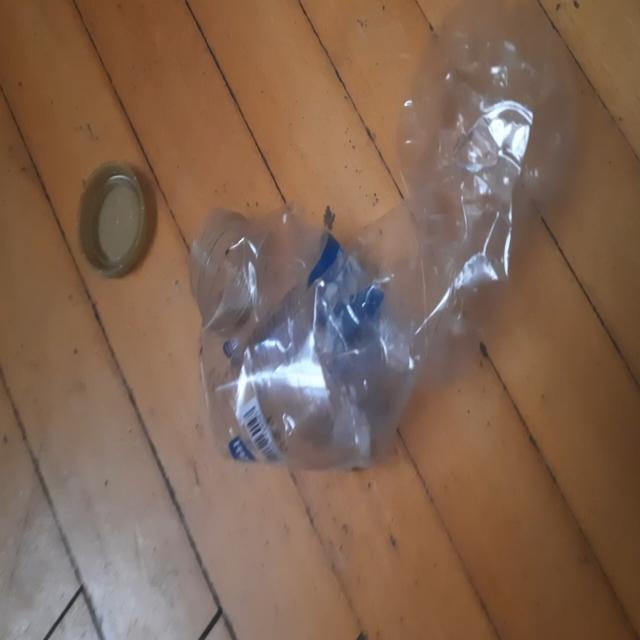Plastic: (191, 19, 536, 471)
